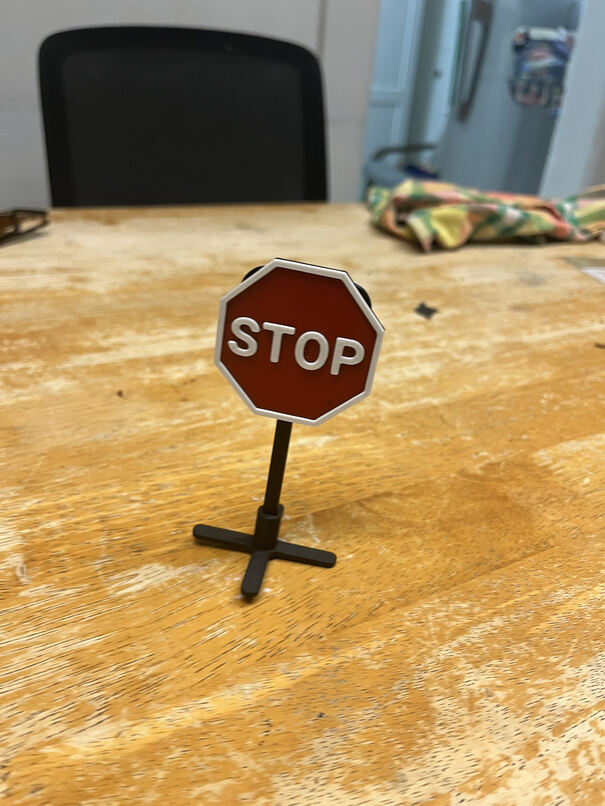sign_stop: (210, 257, 380, 422)
